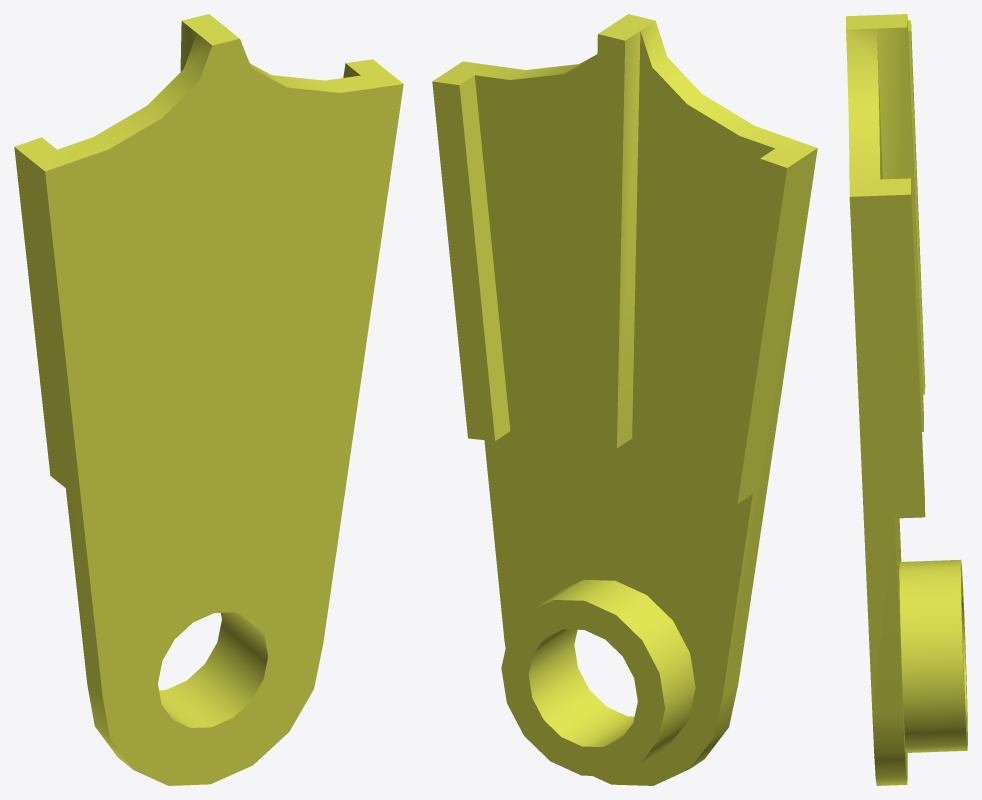
The model's file is Ropa6.fbx.
3 views of the same model, side by side, from view 1: azimuth 30°, elevation 25°; view 2: azimuth 150°, elevation 25°; view 3: azimuth 270°, elevation 25° (orthographic).
Visible parts, largest first — view 1: SOLID-WHITE_113-material.482; view 2: SOLID-WHITE_113-material.482; view 3: SOLID-WHITE_113-material.482.
Part boxes in pixels (bbox=[...]): SOLID-WHITE_113-material.482: bbox=[14, 14, 403, 785]; SOLID-WHITE_113-material.482: bbox=[432, 14, 817, 785]; SOLID-WHITE_113-material.482: bbox=[846, 14, 967, 785].
Size of the model in its own units: 137 by 275 by 40.39.
